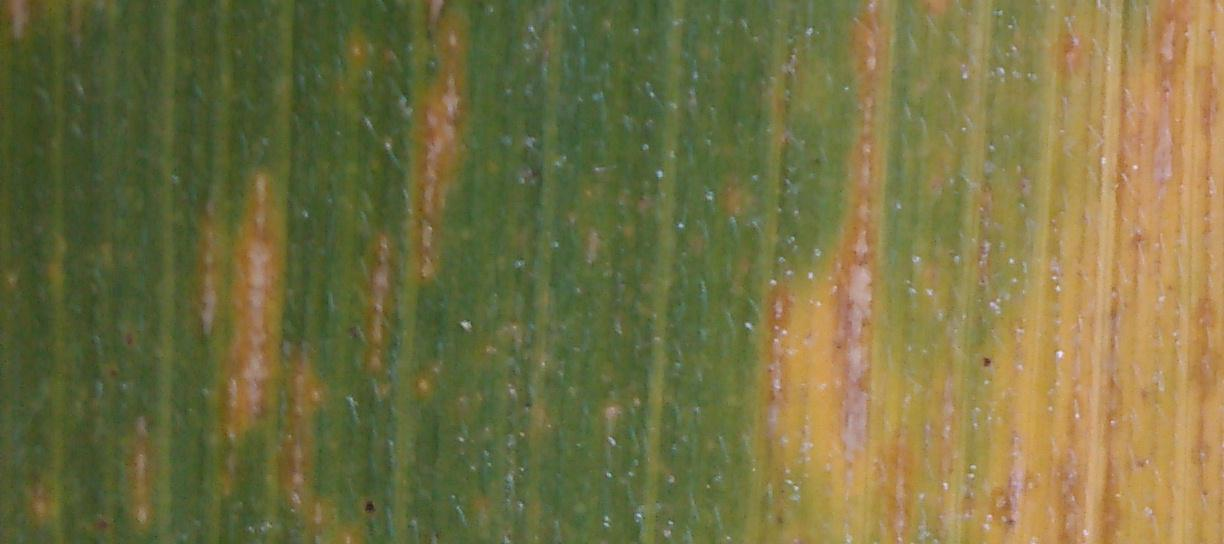tarspot: (974, 353, 996, 369), (361, 496, 378, 516), (1003, 514, 1019, 529)
